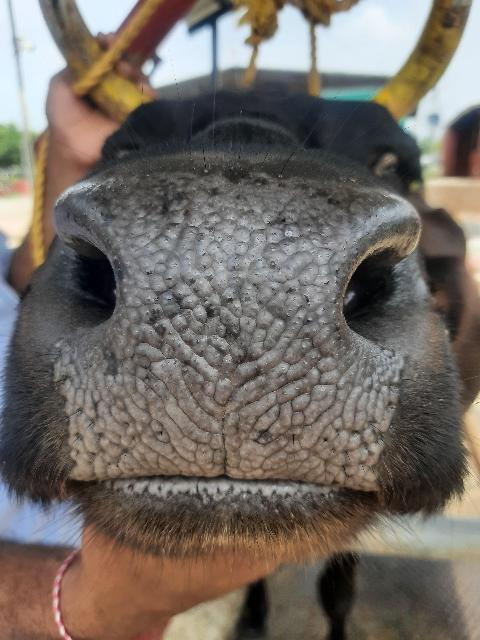Muzzle: (89, 199, 359, 477)
